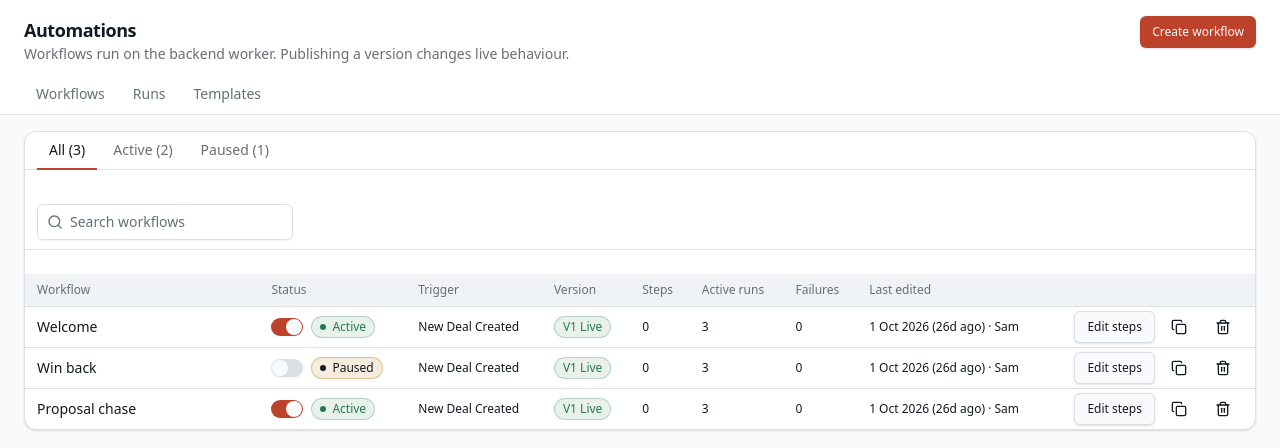
WorkflowsPage tabs › counts each status and shows only that status's workflows
Expected: the link "Welcome" is shown, [37,317,97,336]
Click the tab "Paused (1)". click: (235, 151)
box: [189,132,281,170]
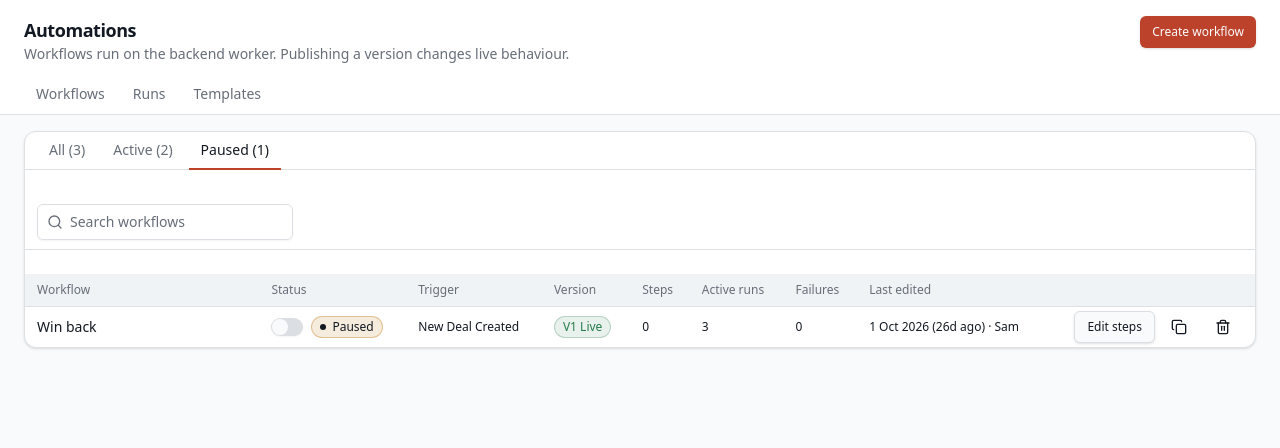
Expected: the link "Win back" is shown, [37,317,97,336]
Expected: the link "Welcome" is gone
Click the tab "Active (2)". click: (143, 151)
box: [101,132,185,170]
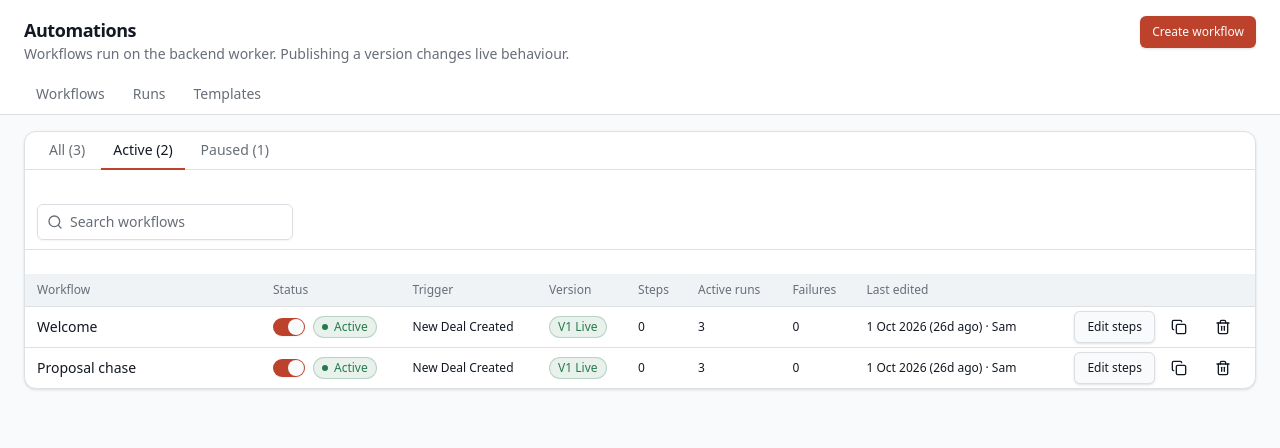
Expected: the link "Welcome" is shown, [37,317,97,336]
Expected: the link "Proposal chase" is shown, [37,358,136,377]
Expected: the link "Win back" is gone
